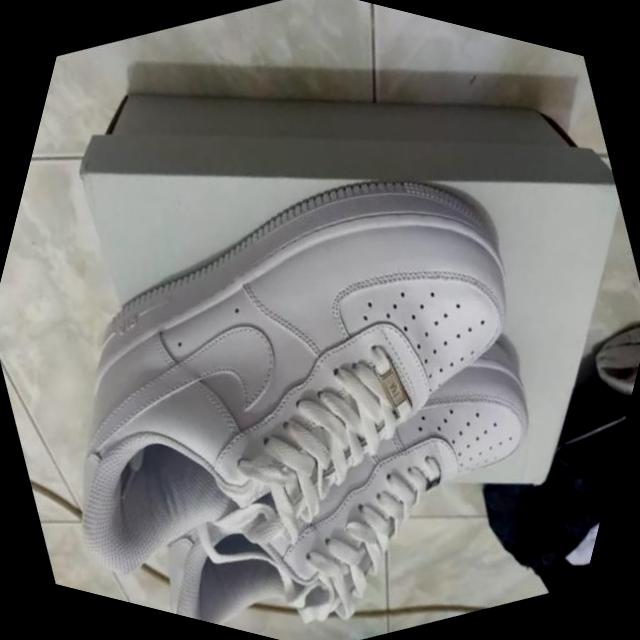nike_original_airforce: (0, 51, 628, 640), (83, 252, 627, 640)
